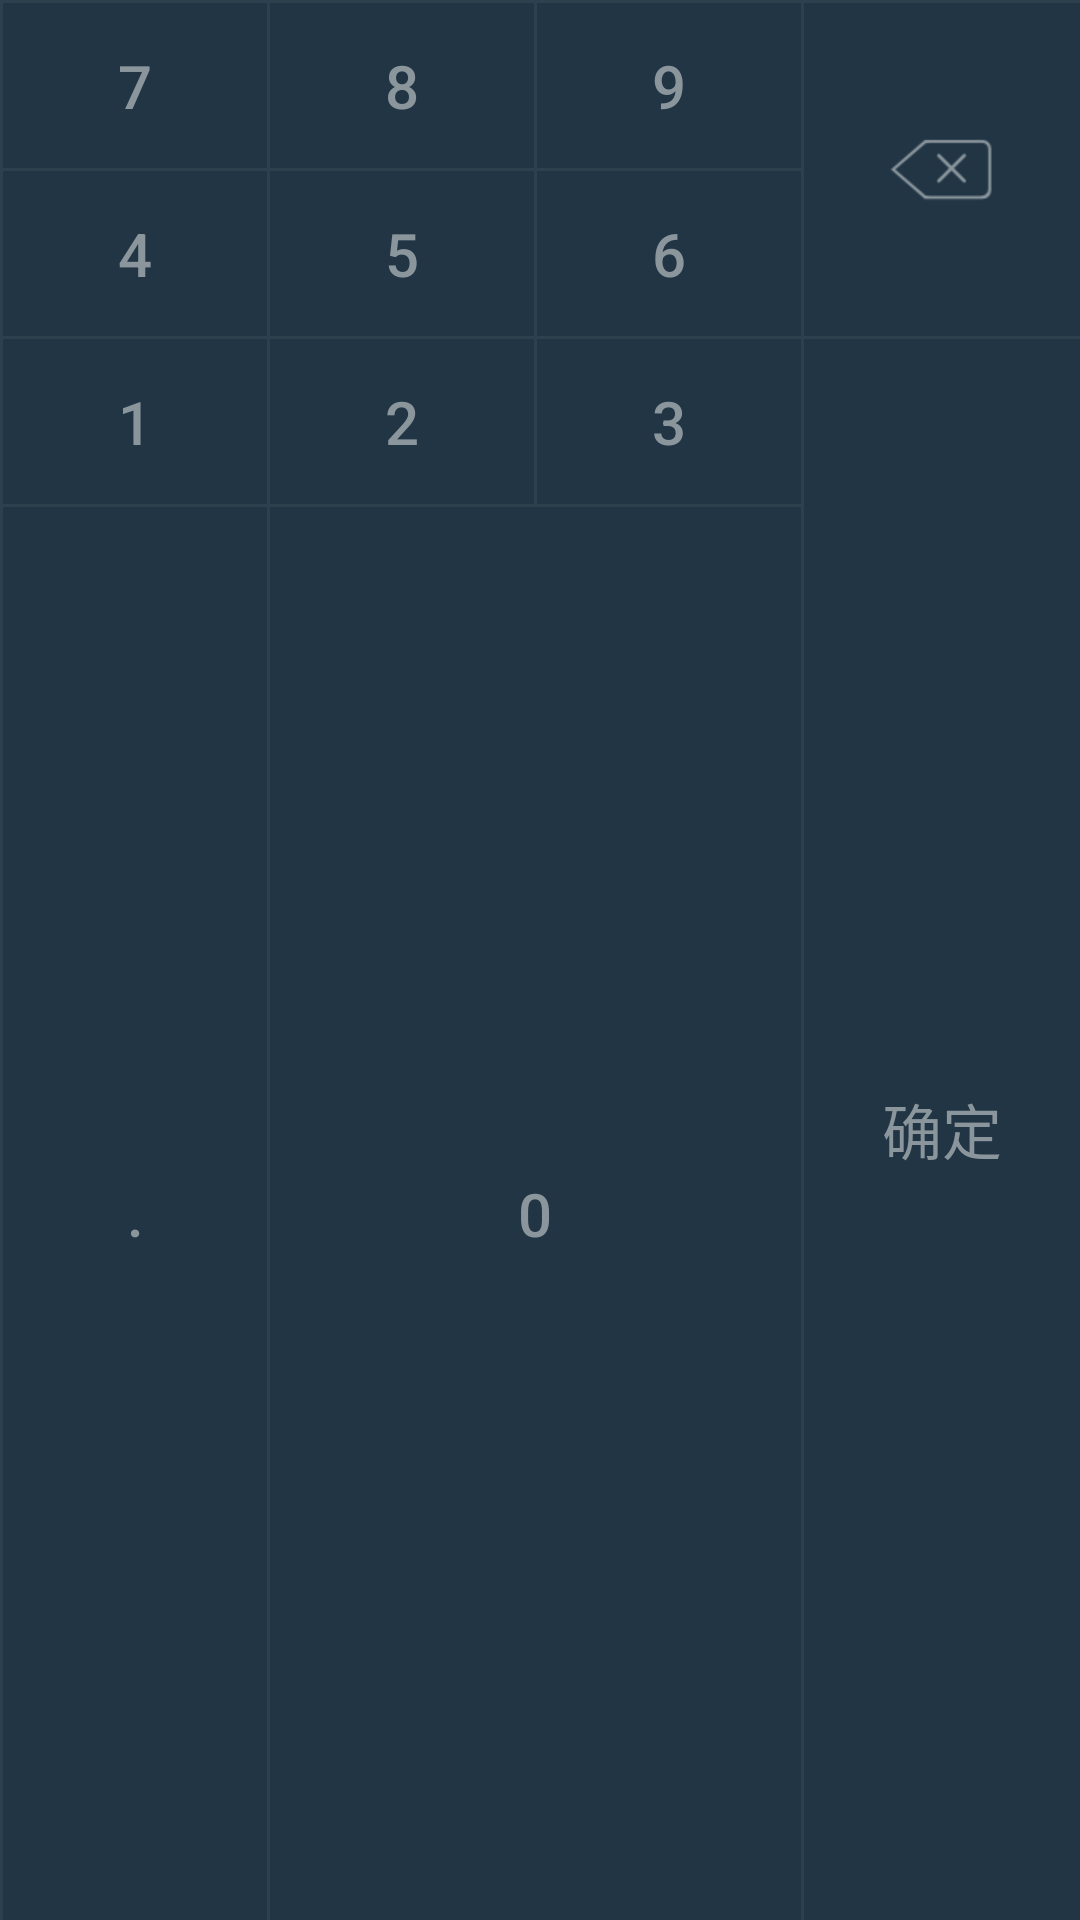

Where icons sit on this 1080x1920 app screen, as (x1,y1,x2,y2):
backspace: (891,140,992,199)
